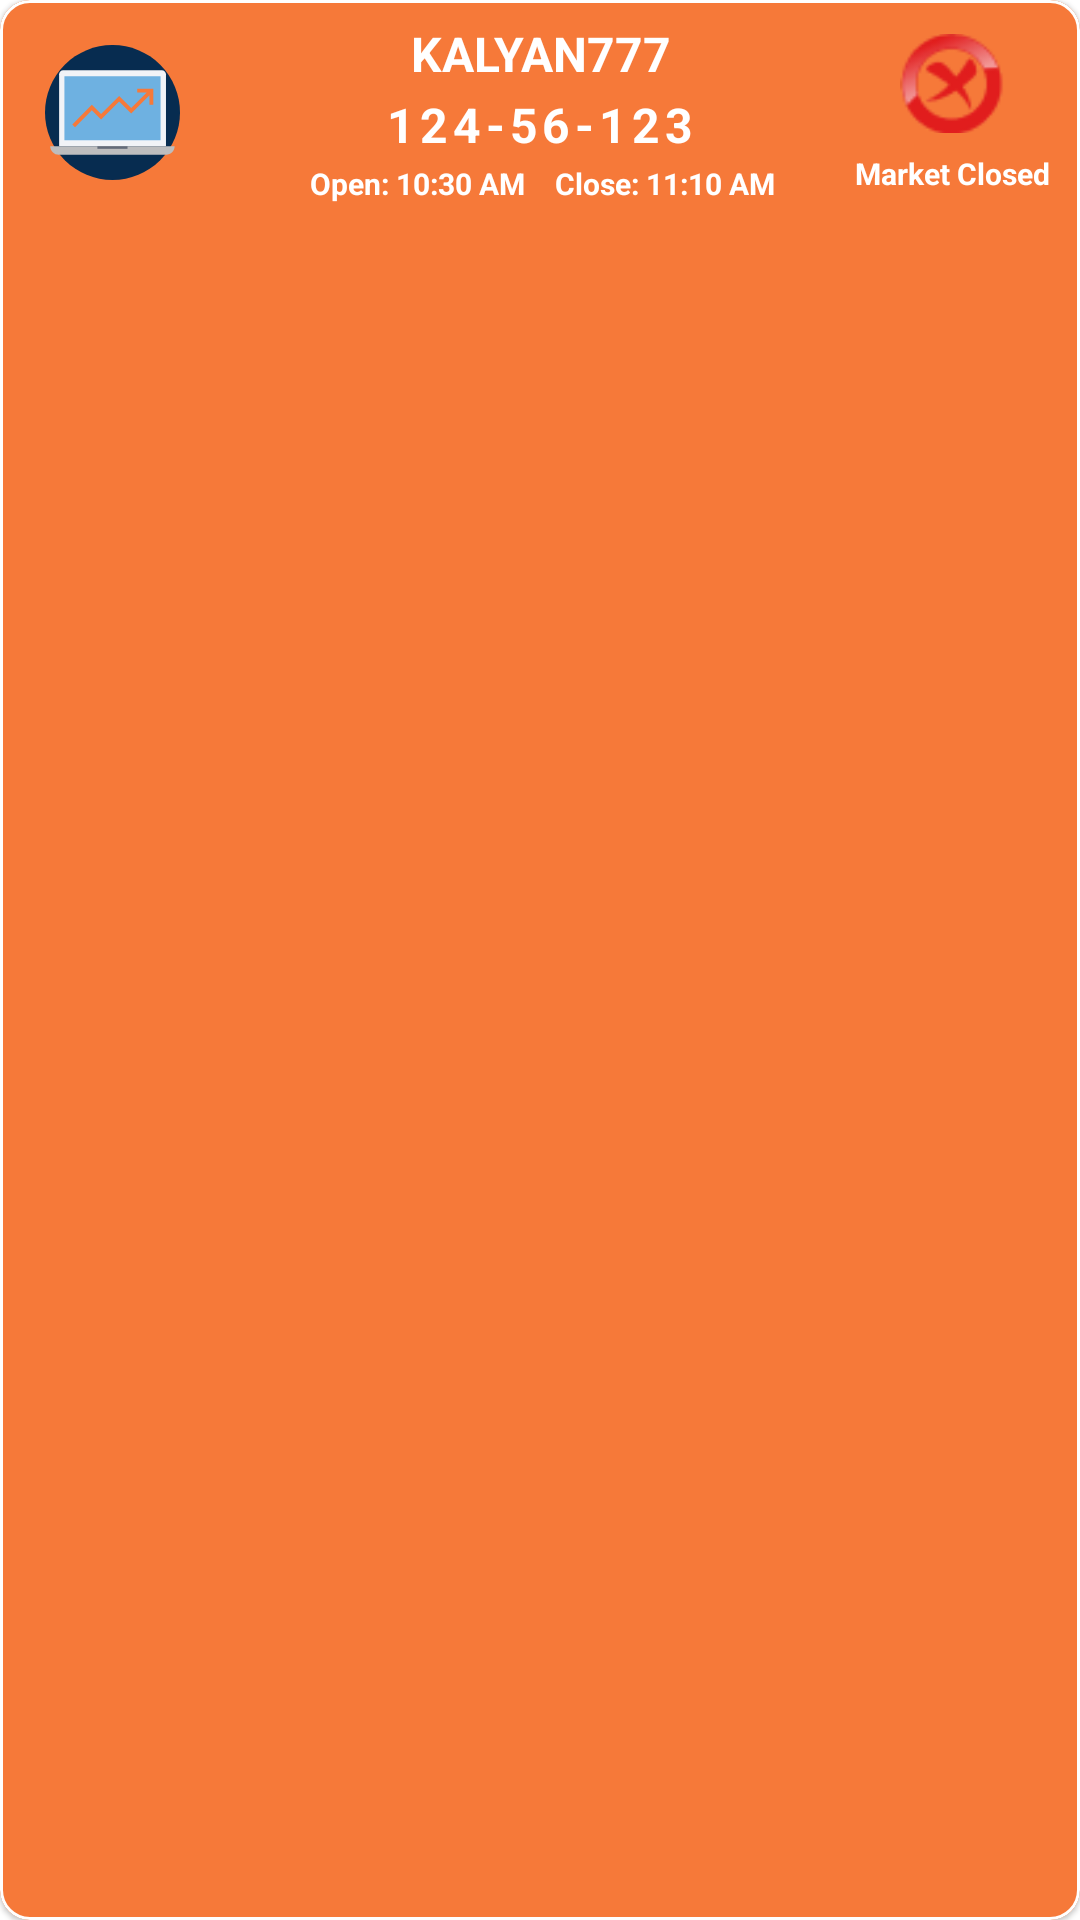

Icon click points for this 1080w x 1920h phone screenshot, format (x,y):
chart: (112,112)
